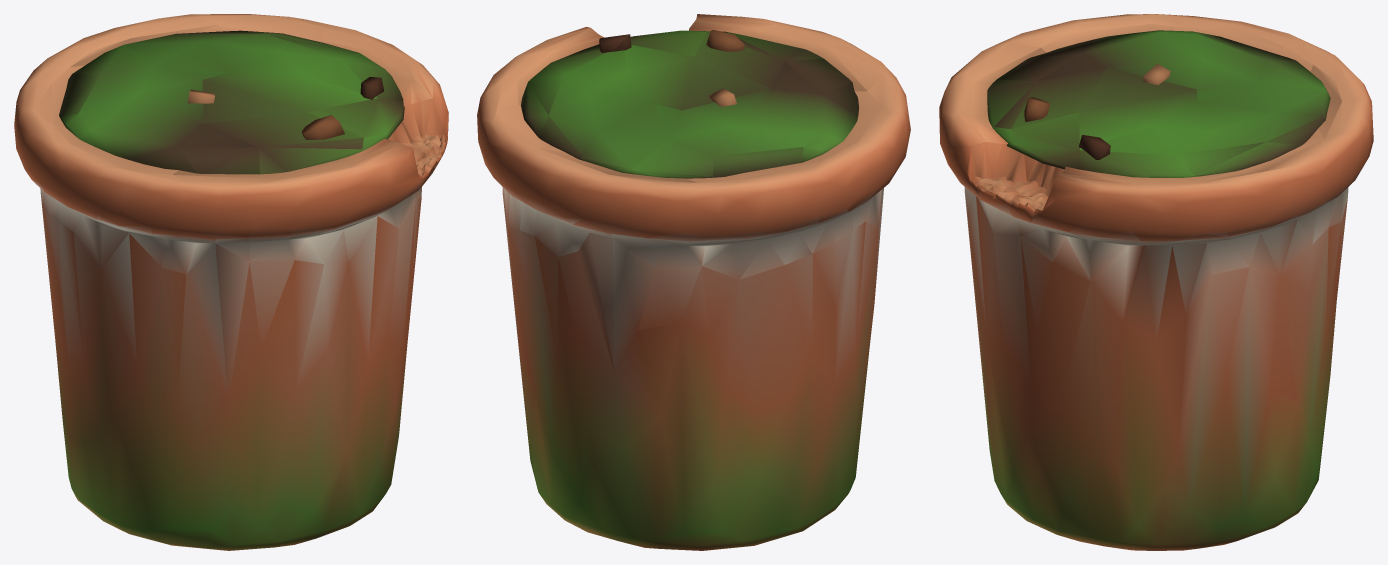
File: canopy_pot_b_lod2.glb
3 views of the same model, side by side, from view 1: azimuth 30°, elevation 25°; view 2: azimuth 150°, elevation 25°; view 3: azimuth 270°, elevation 25° (orthographic).
Visible parts, largest first — view 1: canopy_pot_b.001; view 2: canopy_pot_b.001; view 3: canopy_pot_b.001.
Part boxes in pixels (bbox=[...]): canopy_pot_b.001: bbox=[14, 14, 448, 550]; canopy_pot_b.001: bbox=[477, 14, 910, 550]; canopy_pot_b.001: bbox=[939, 14, 1373, 550].
Size of the model in its own units: 10.1 by 10.48 by 10.07.
